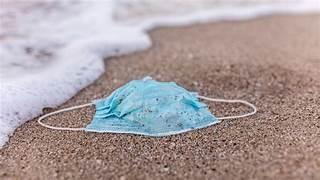Mask: (38, 77, 255, 135)
